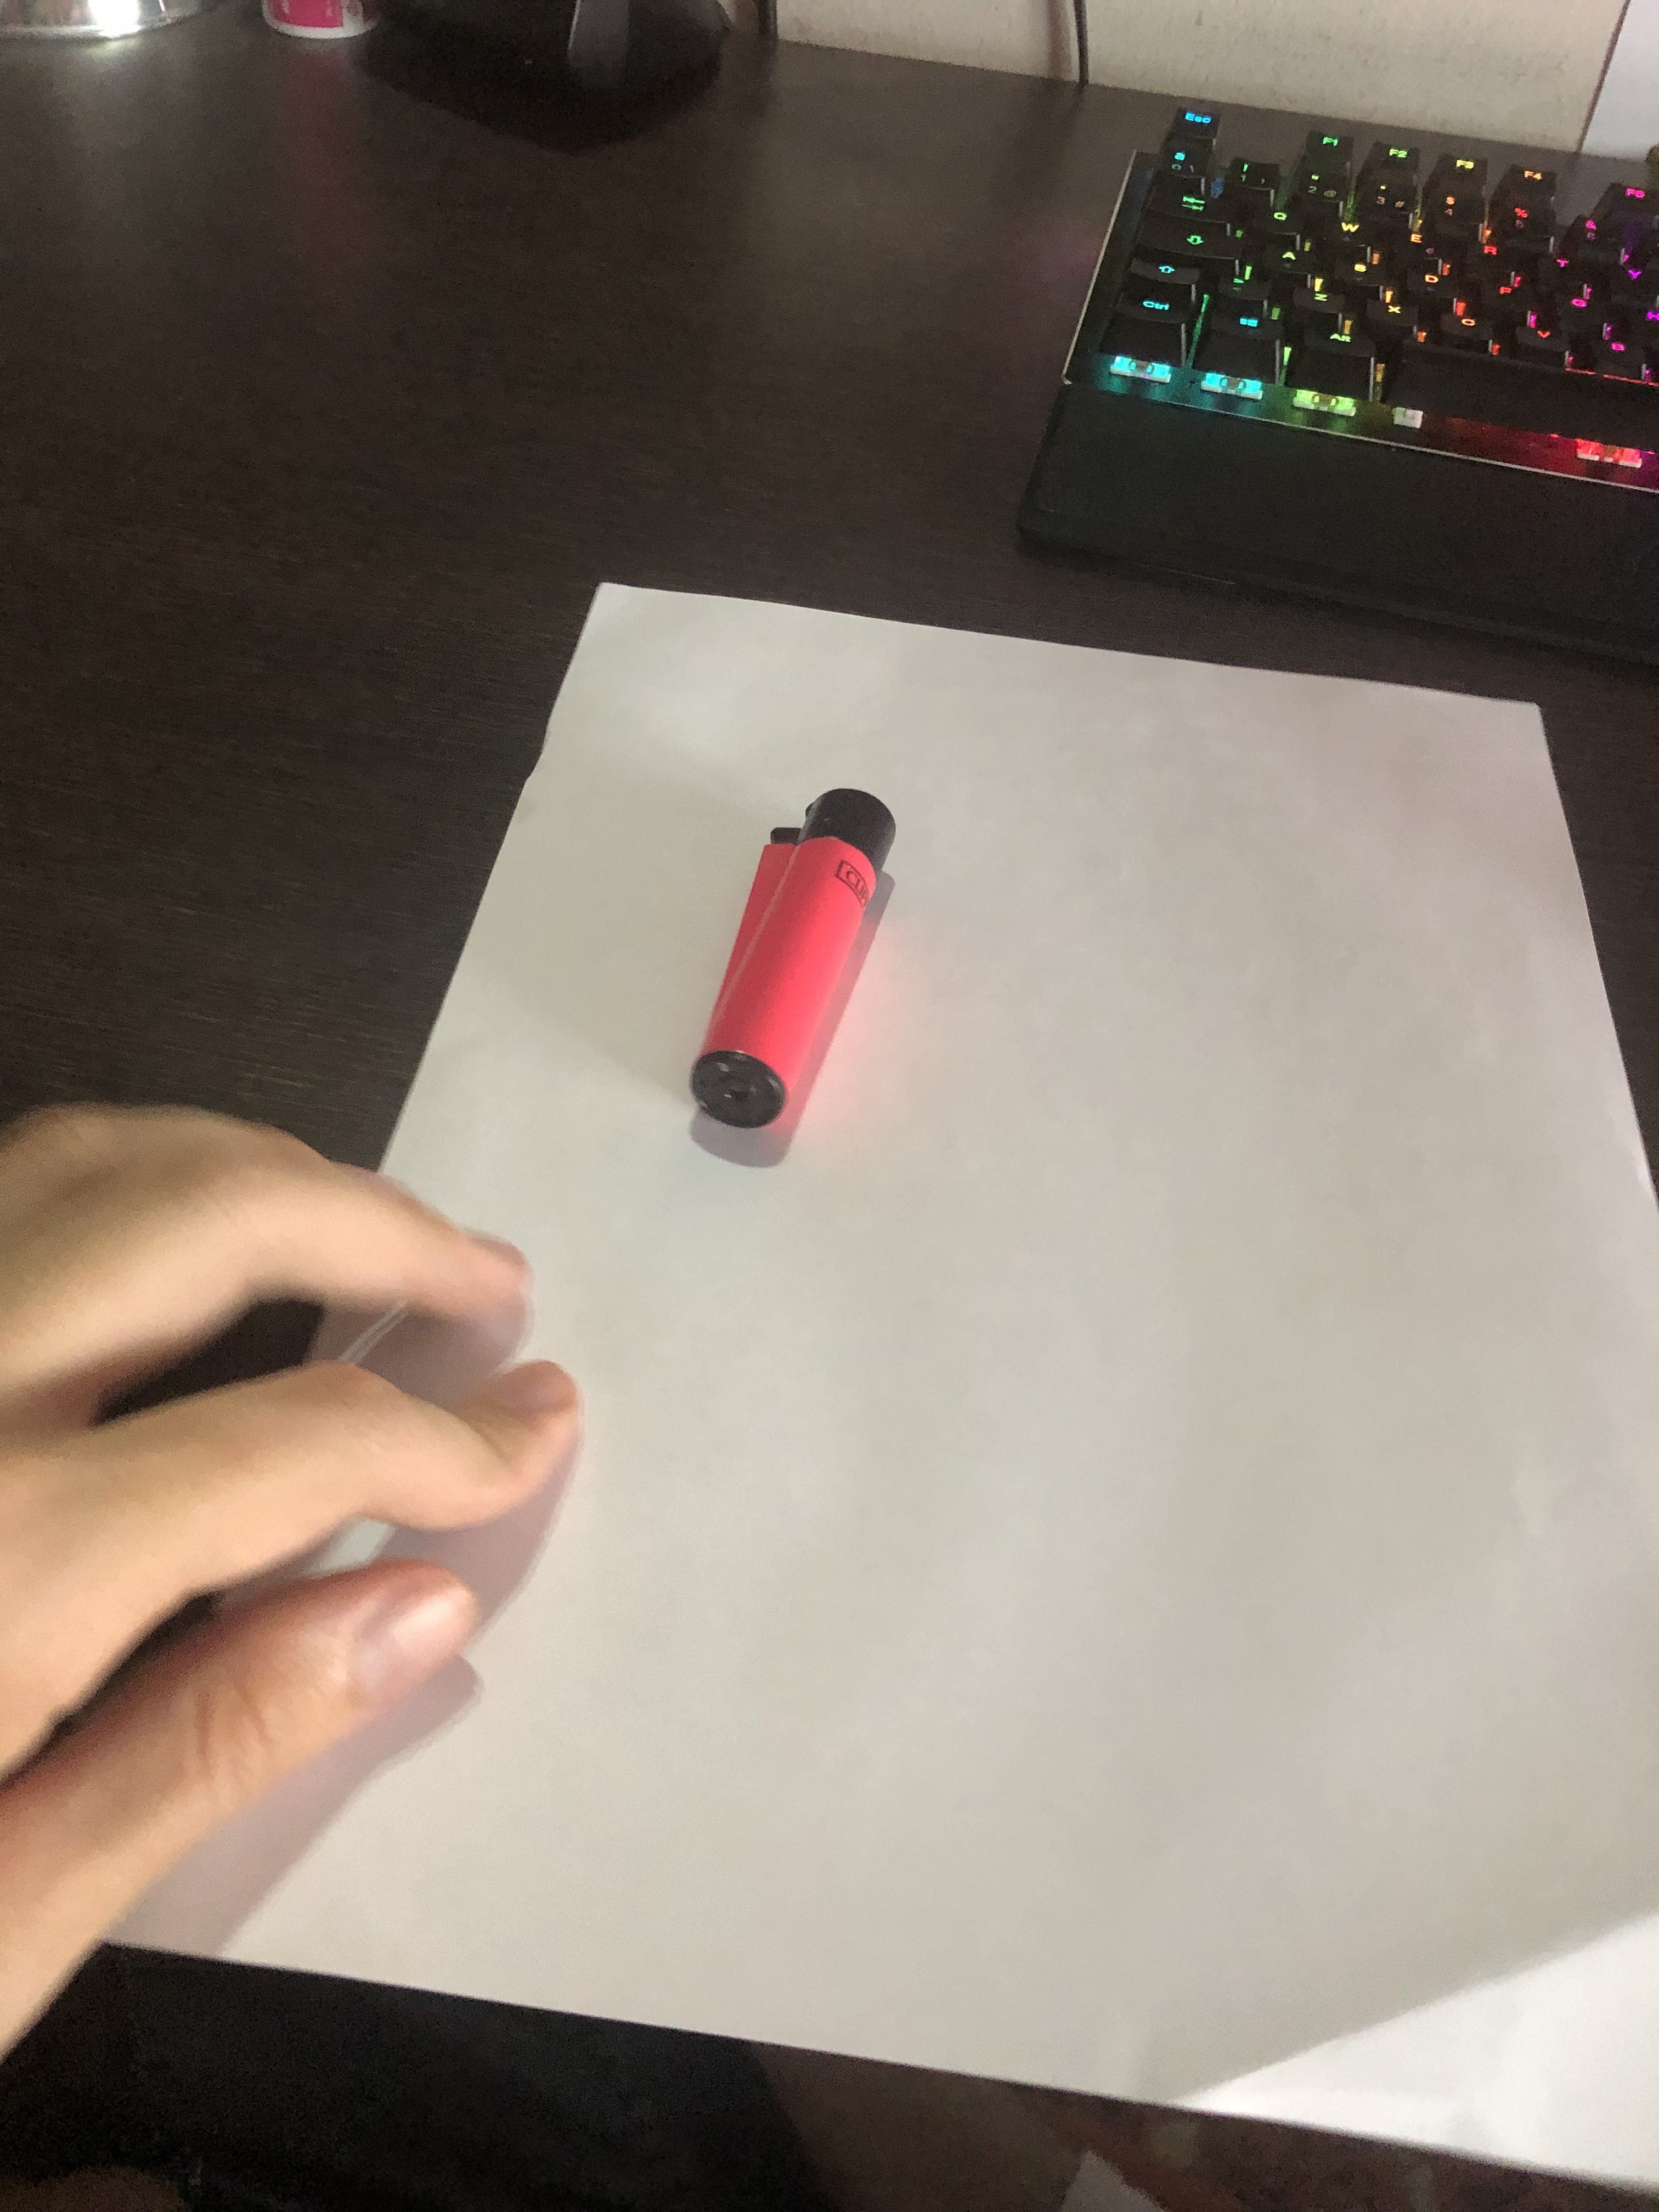Mechero: (676, 772, 901, 1146)
